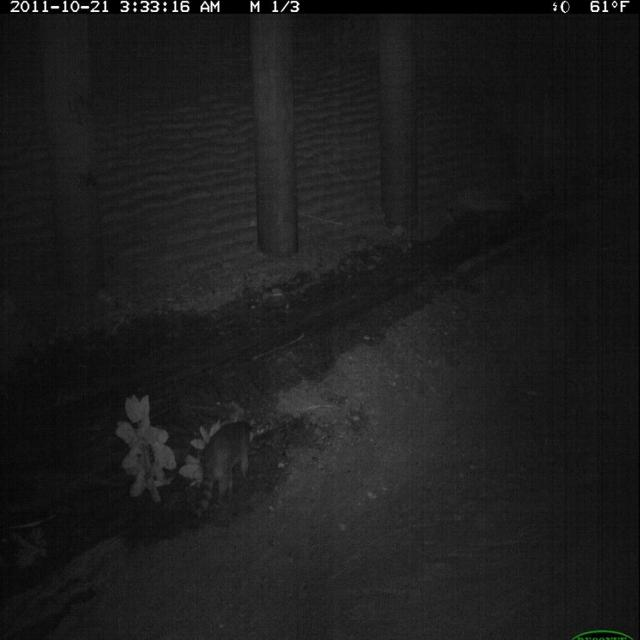raccoon: (190, 412, 263, 527)
